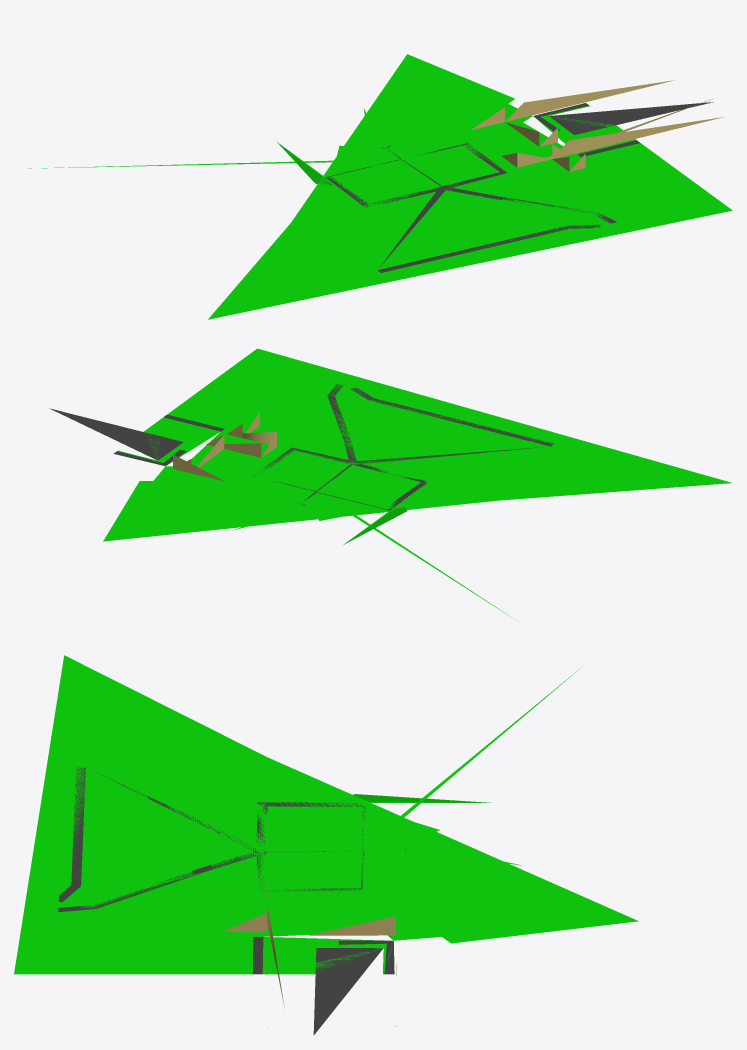
3 views of the same model, one above another, from view 1: azimuth 30°, elevation 25°; view 2: azimuth 150°, elevation 25°; view 3: azimuth 270°, elevation 25° (orthographic). The views are drawn at different scales.
Size of the model in its own units: 317 by 7.5 by 253.
